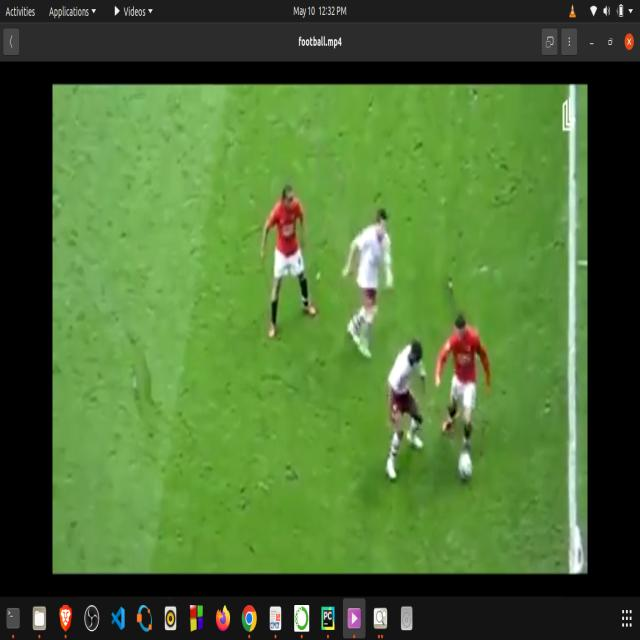Ball: (455, 446, 481, 492)
football-players: (260, 176, 322, 344), (342, 197, 397, 367), (435, 303, 492, 456), (383, 337, 431, 489)
